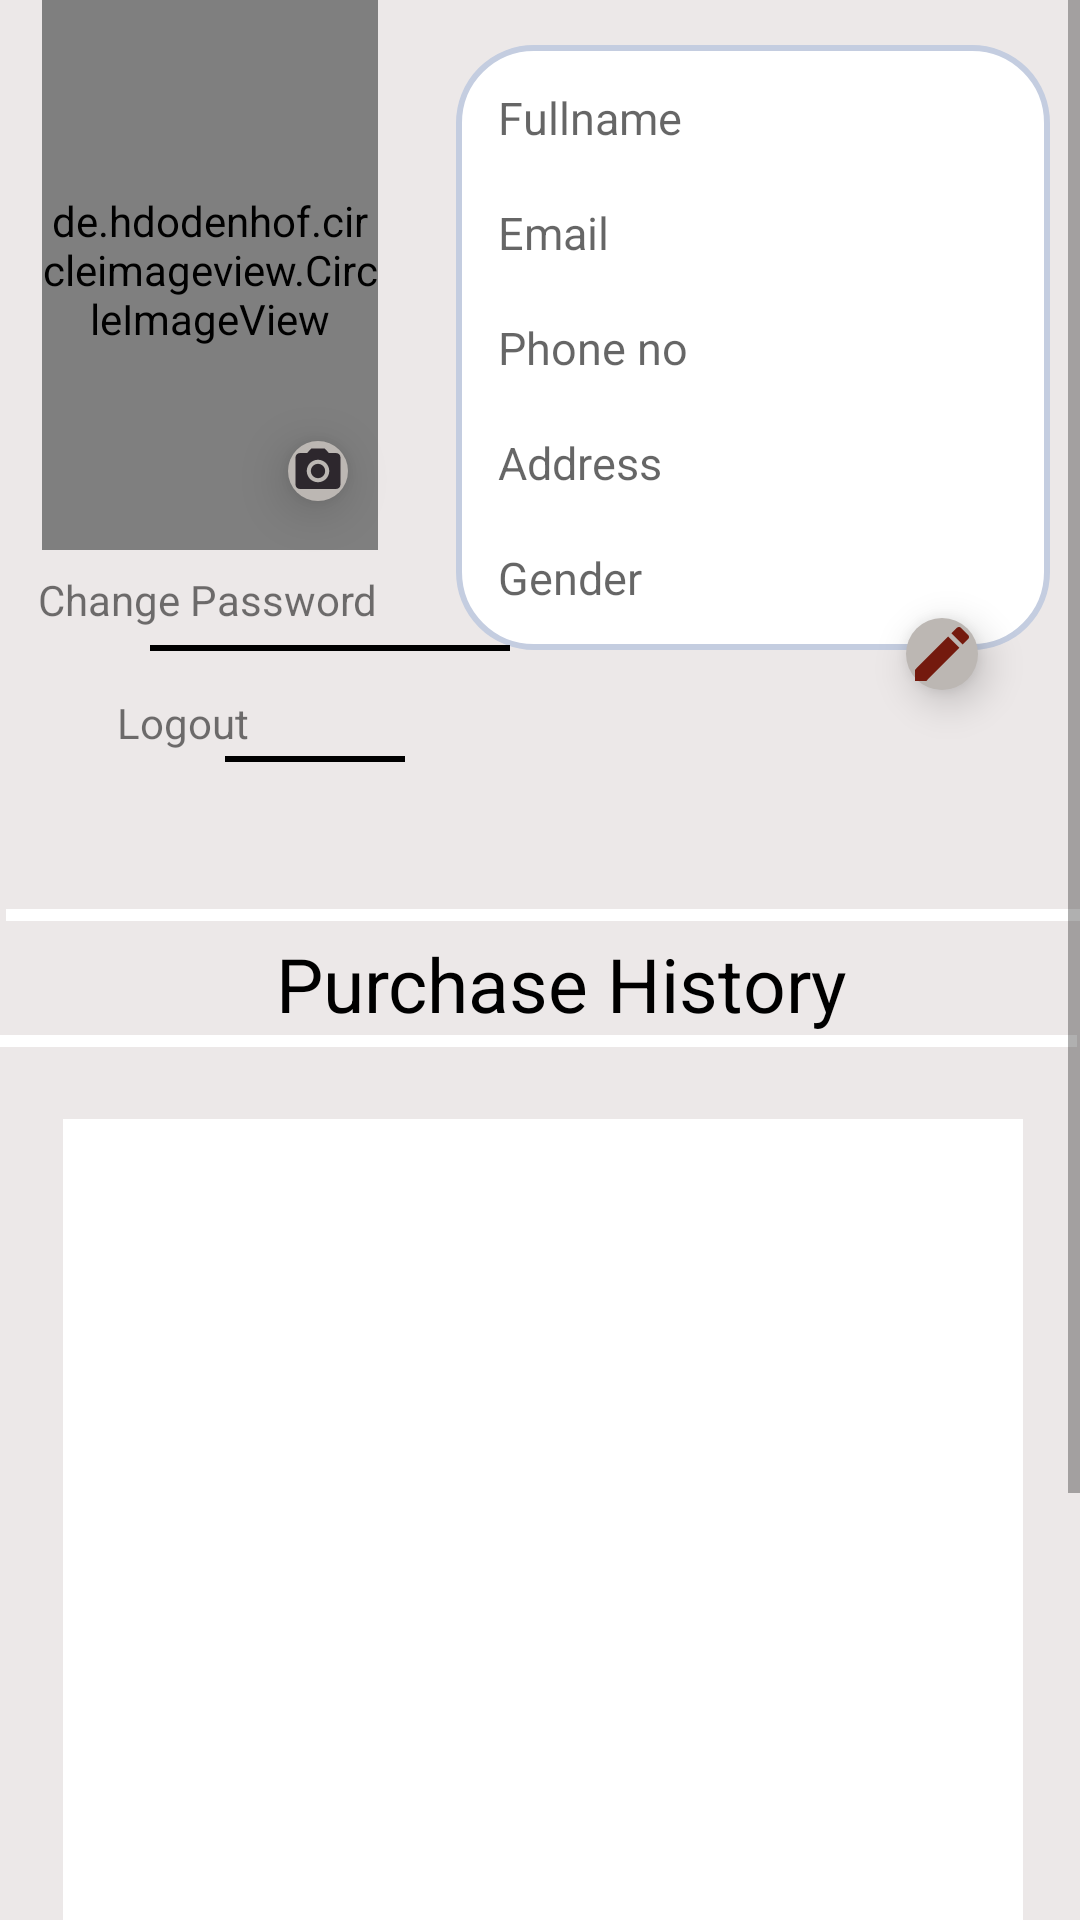

Named icons in this screenshot (1080*1920) and their centers, point (x, y):
edit: point (942, 654)
edit photo: point (318, 471)
